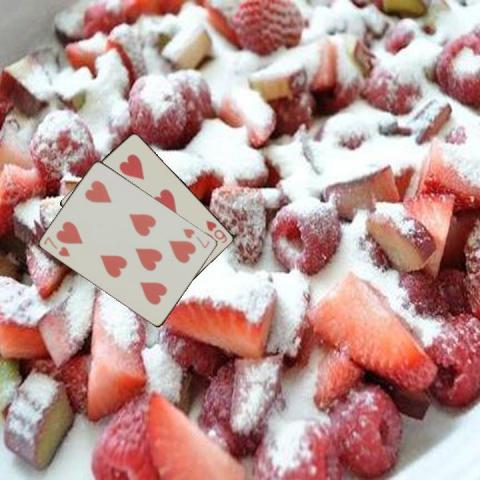6h: (203, 217, 228, 245)
7h: (180, 225, 211, 250), (41, 233, 72, 258)
